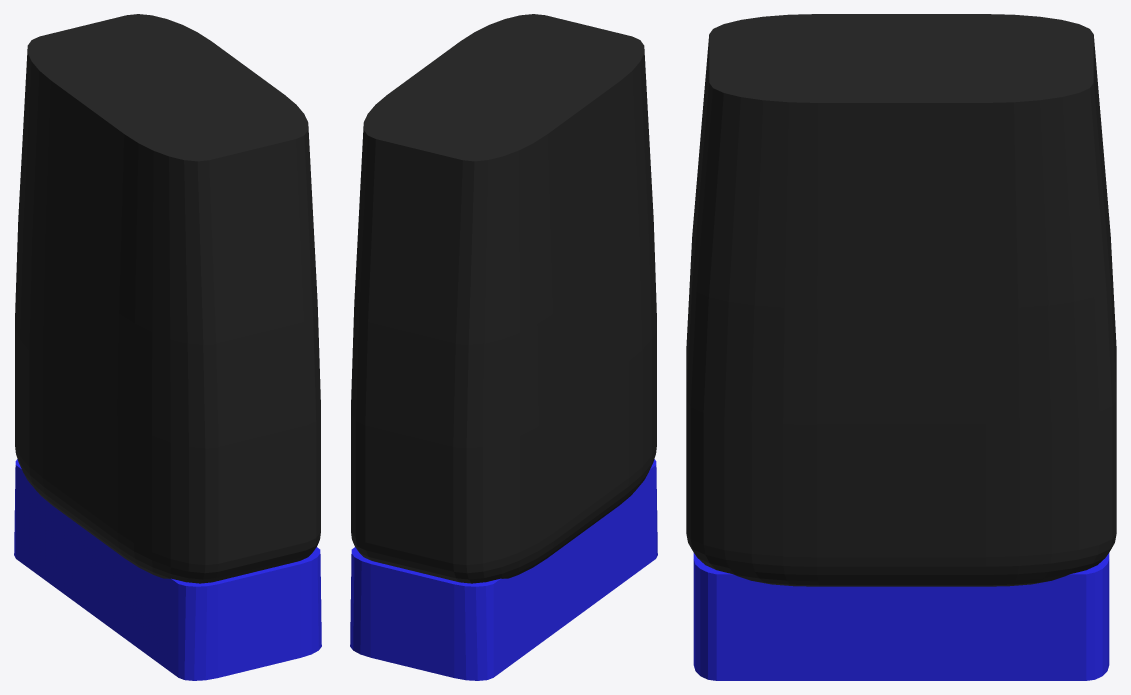
File: chip.obj
3 views of the same model, side by side, from view 1: azimuth 30°, elevation 25°; view 2: azimuth 150°, elevation 25°; view 3: azimuth 270°, elevation 25° (orthographic). The views are drawn at different scales.
Parts seen in each view (by area): view 1: Chip, Plug.010; view 2: Chip, Plug.010; view 3: Chip, Plug.010.
Boxes of the visible parts, <box> form: Chip: <box>15,14,320,583</box>; Plug.010: <box>14,459,321,680</box>; Chip: <box>351,14,656,583</box>; Plug.010: <box>350,459,657,680</box>; Chip: <box>686,14,1116,586</box>; Plug.010: <box>693,553,1109,680</box>.
Size of the model in its own units: 0.011 by 0.0309 by 0.0205.
